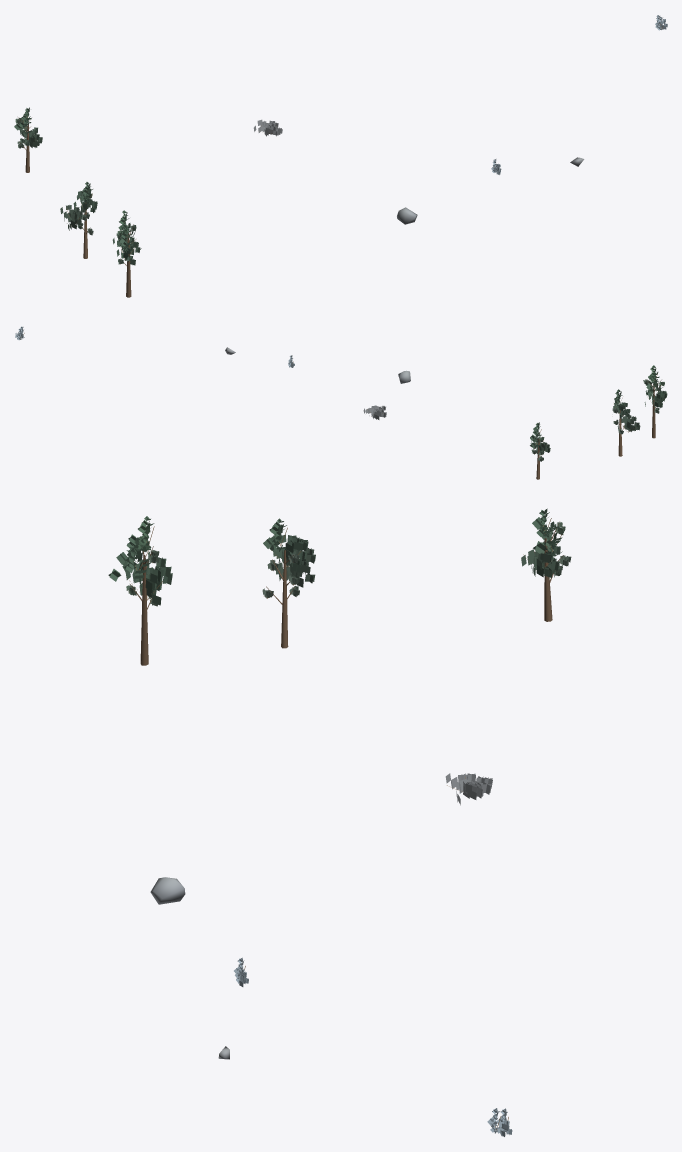
Rendered from frost_land_scatter_c23_10.glb.
3 renders of one model, top to bottom at view 1: azimuth 30°, elevation 25°; view 2: azimuth 150°, elevation 25°; view 3: azimuth 270°, elevation 25°, orthographic. The views are drawn at different scales.
Visible parts, largest first — view 1: frost_land_scatter_c23_10; view 2: frost_land_scatter_c23_10; view 3: frost_land_scatter_c23_10.
Part boxes in pixels (<box>): frost_land_scatter_c23_10: <box>14,15,667,297</box>; frost_land_scatter_c23_10: <box>15,326,667,479</box>; frost_land_scatter_c23_10: <box>108,508,571,1136</box>.
Size of the model in its own units: 118 by 16.91 by 41.75.
